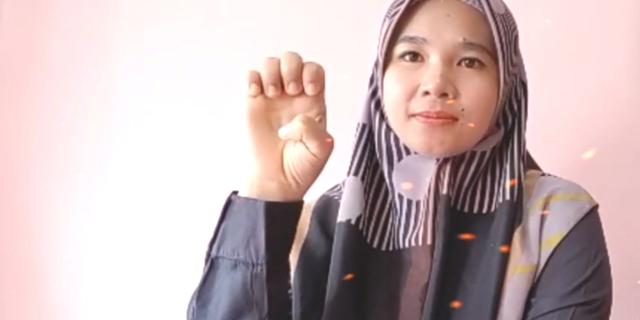E: (240, 50, 334, 186)
